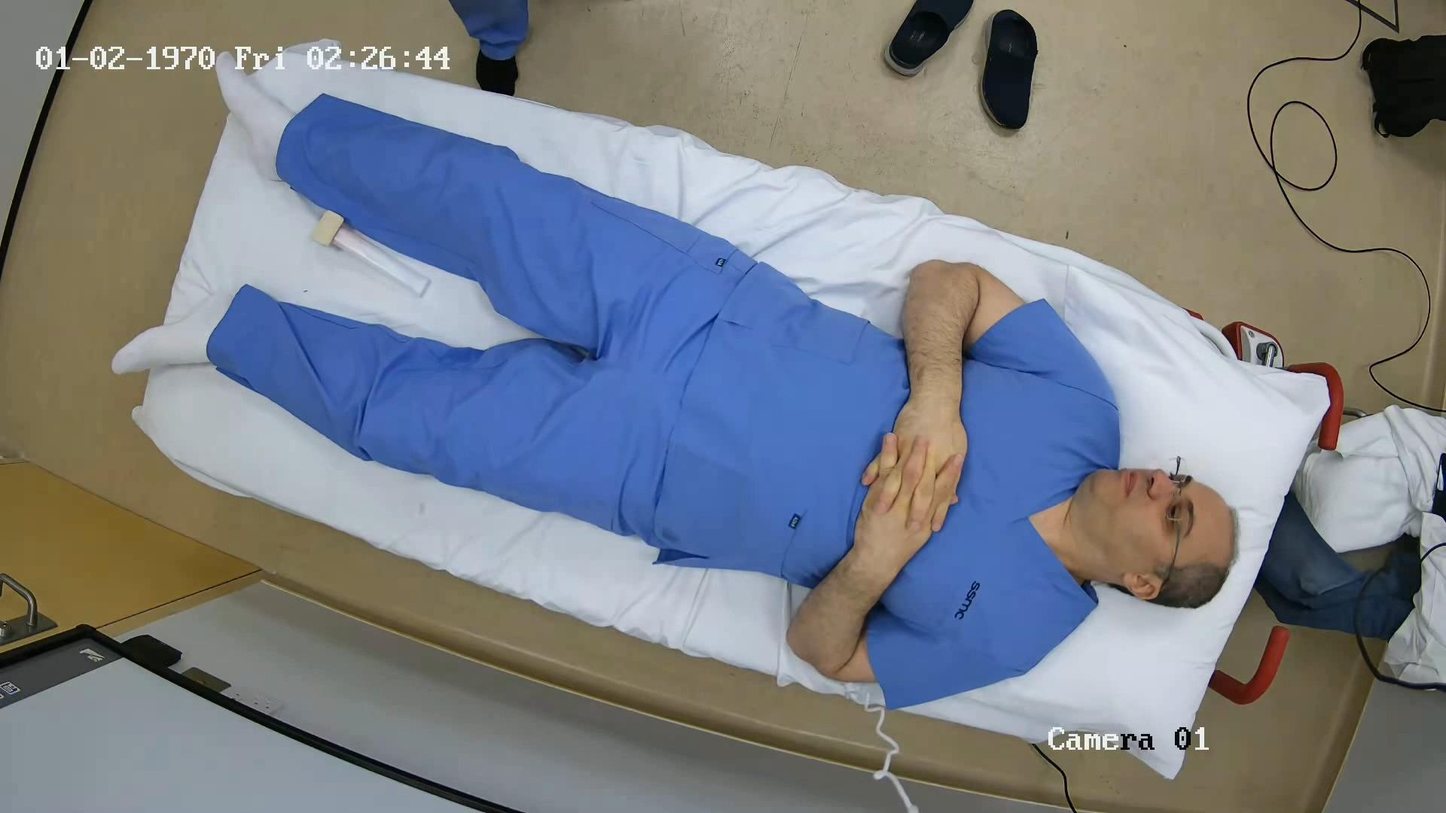bed: (133, 62, 1343, 783)
patient: (206, 95, 1237, 708)
prepstick: (313, 211, 431, 297)
